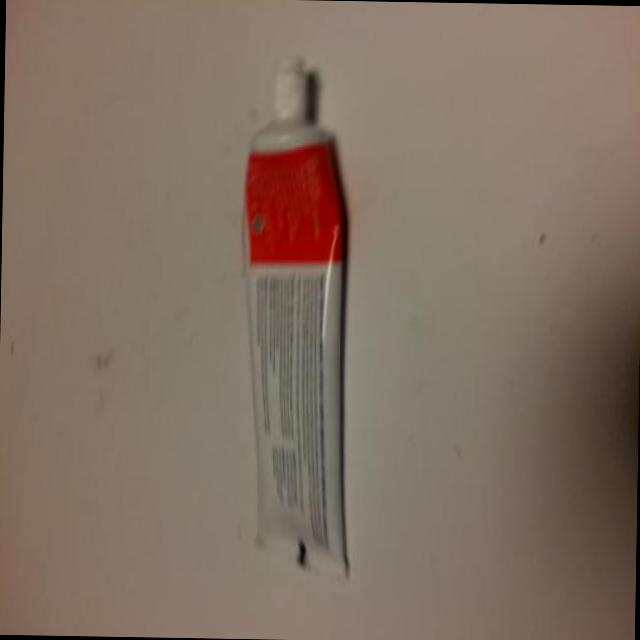Trash: (236, 59, 370, 582)
